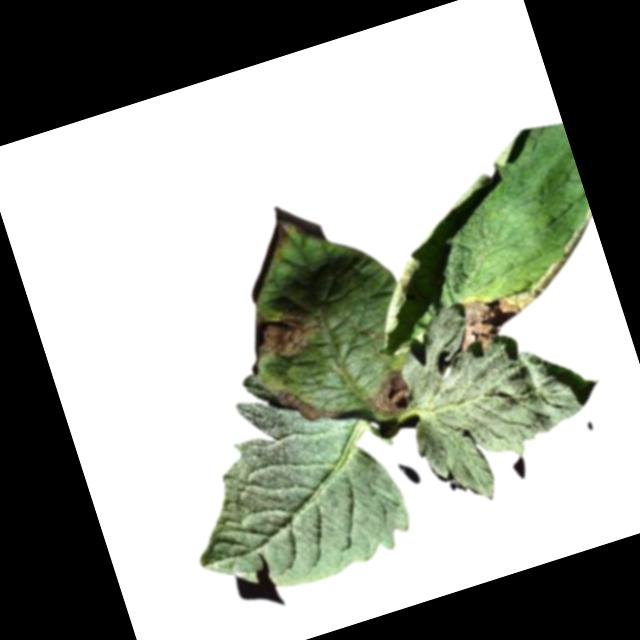Late_blight: (444, 278, 549, 361), (242, 299, 326, 367), (276, 376, 334, 429), (361, 366, 414, 421), (260, 214, 311, 262)
healthy: (157, 361, 420, 613), (379, 269, 623, 515)
